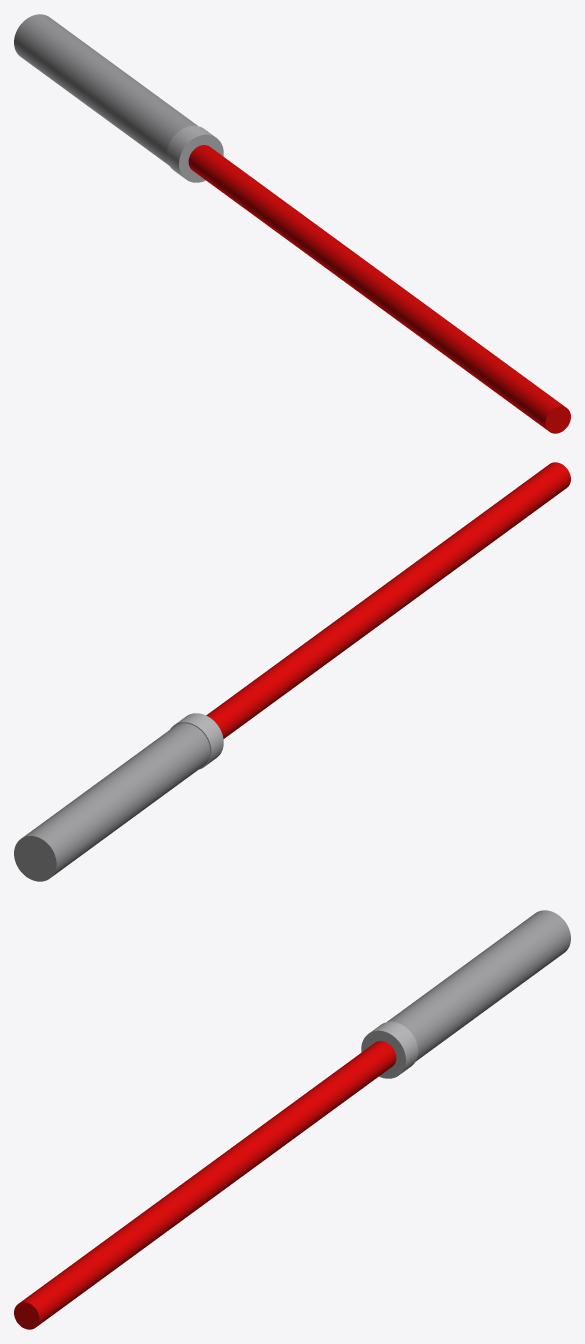
File: lightsaber2.glb
3 views of the same model, one above another, from view 1: azimuth 30°, elevation 25°; view 2: azimuth 150°, elevation 25°; view 3: azimuth 330°, elevation 25° (orthographic).
Visible parts, largest first — view 1: blade, handle, emitter; view 2: blade, handle, emitter; view 3: blade, handle, emitter.
Part boxes in pixels (x1,y1,x2,y2): blade: (188,145,570,433); handle: (14,14,197,165); emitter: (166,125,223,182); blade: (206,462,570,738); handle: (14,723,210,881); emitter: (170,713,223,769); blade: (14,1041,396,1329); handle: (387,910,570,1061); emitter: (361,1021,418,1078).
Size of the model in its own units: 0.042 by 0.042 by 0.85.
